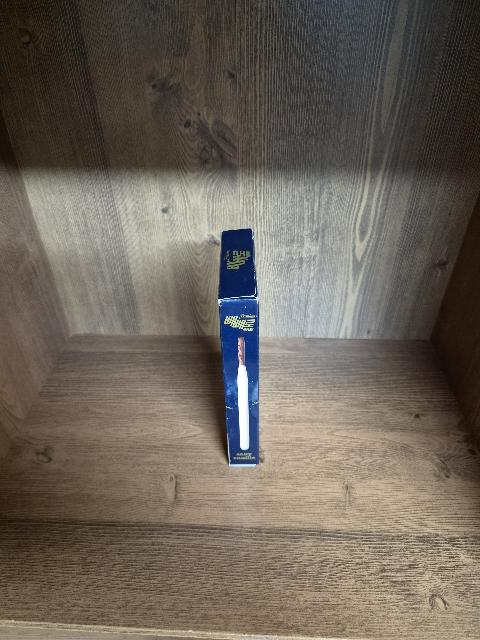pepero: (218, 228, 259, 466)
